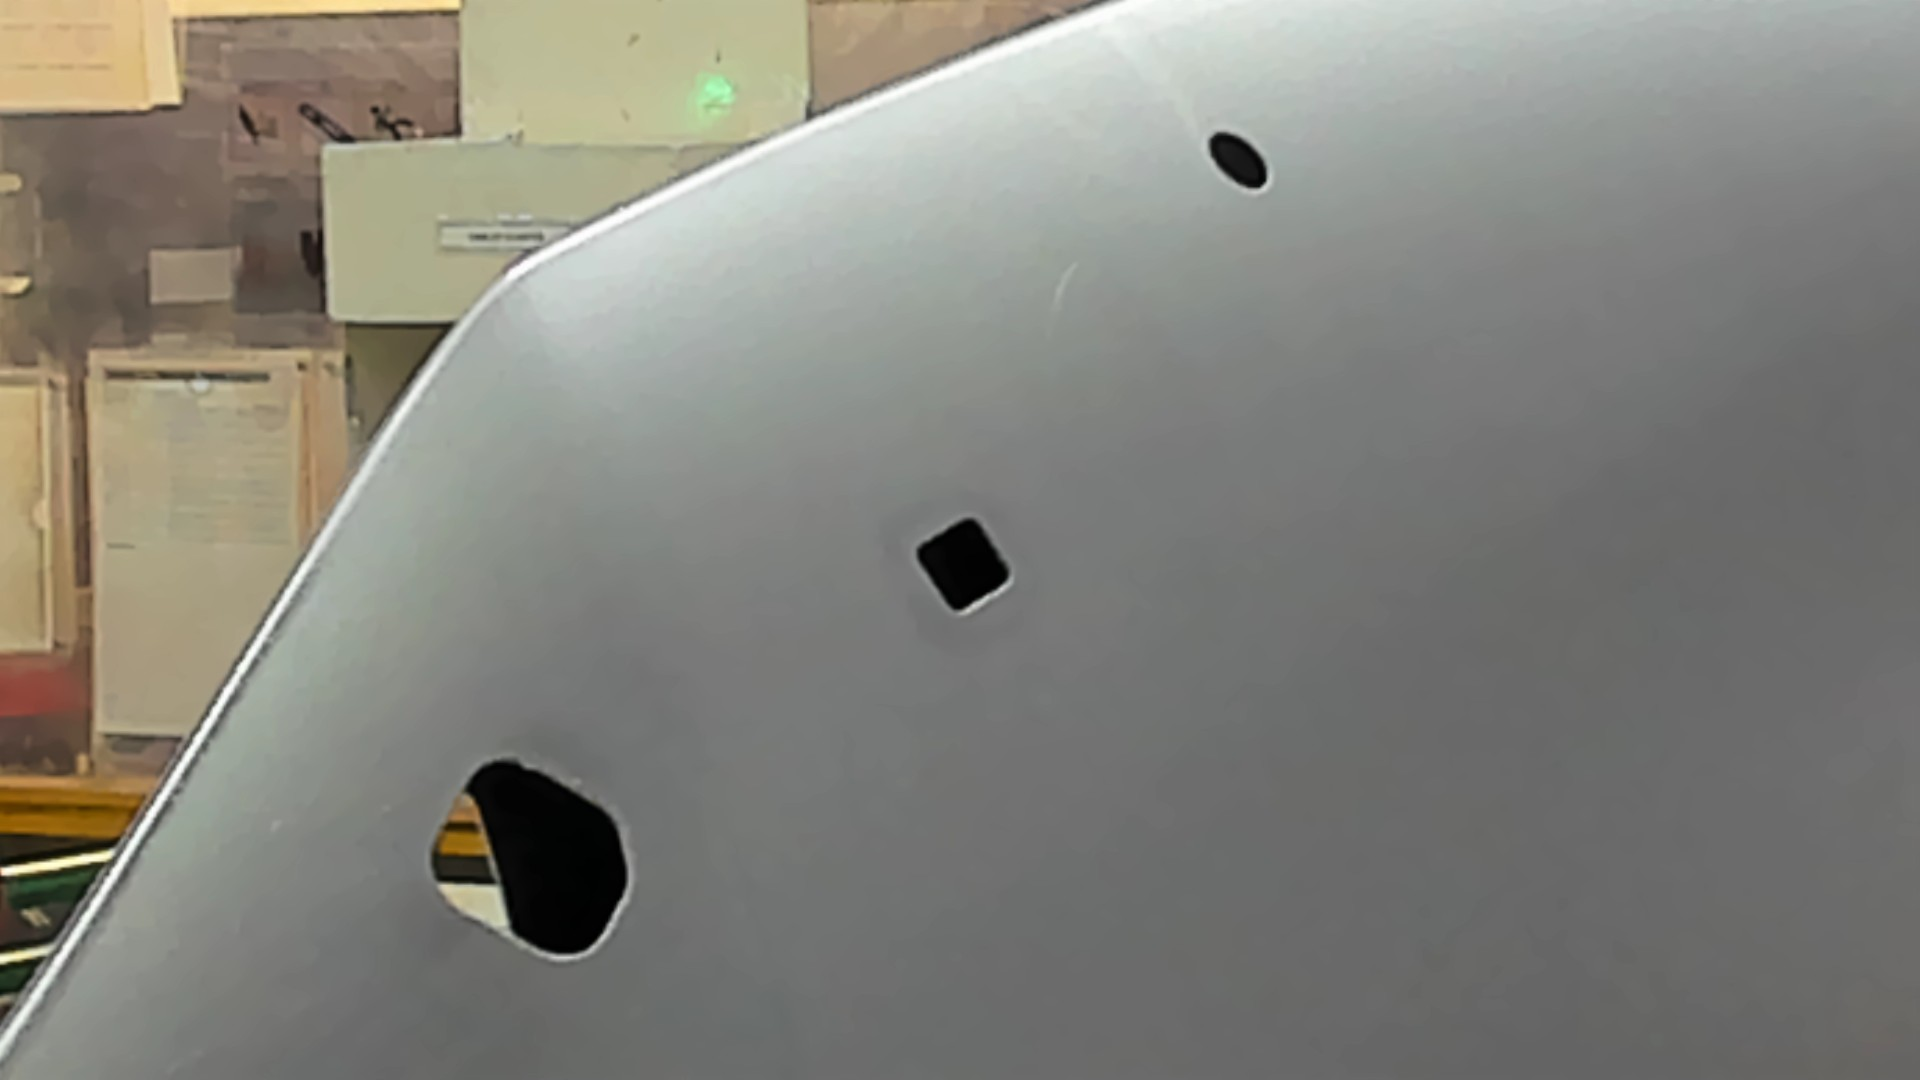chico: (1195, 119, 1282, 200)
grande: (396, 749, 665, 961)
mediano: (891, 502, 1077, 637)
